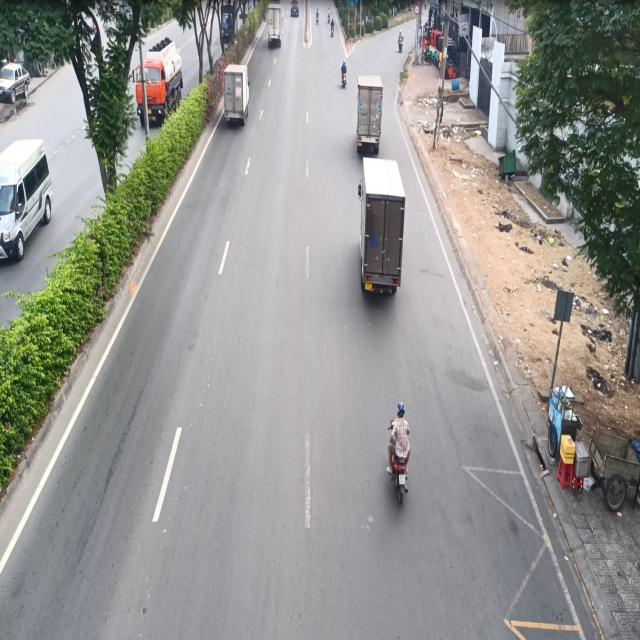motorbike: (384, 394, 416, 510), (337, 56, 349, 90)
truck: (354, 154, 406, 306), (354, 67, 386, 155), (216, 61, 254, 135), (261, 0, 283, 50)
